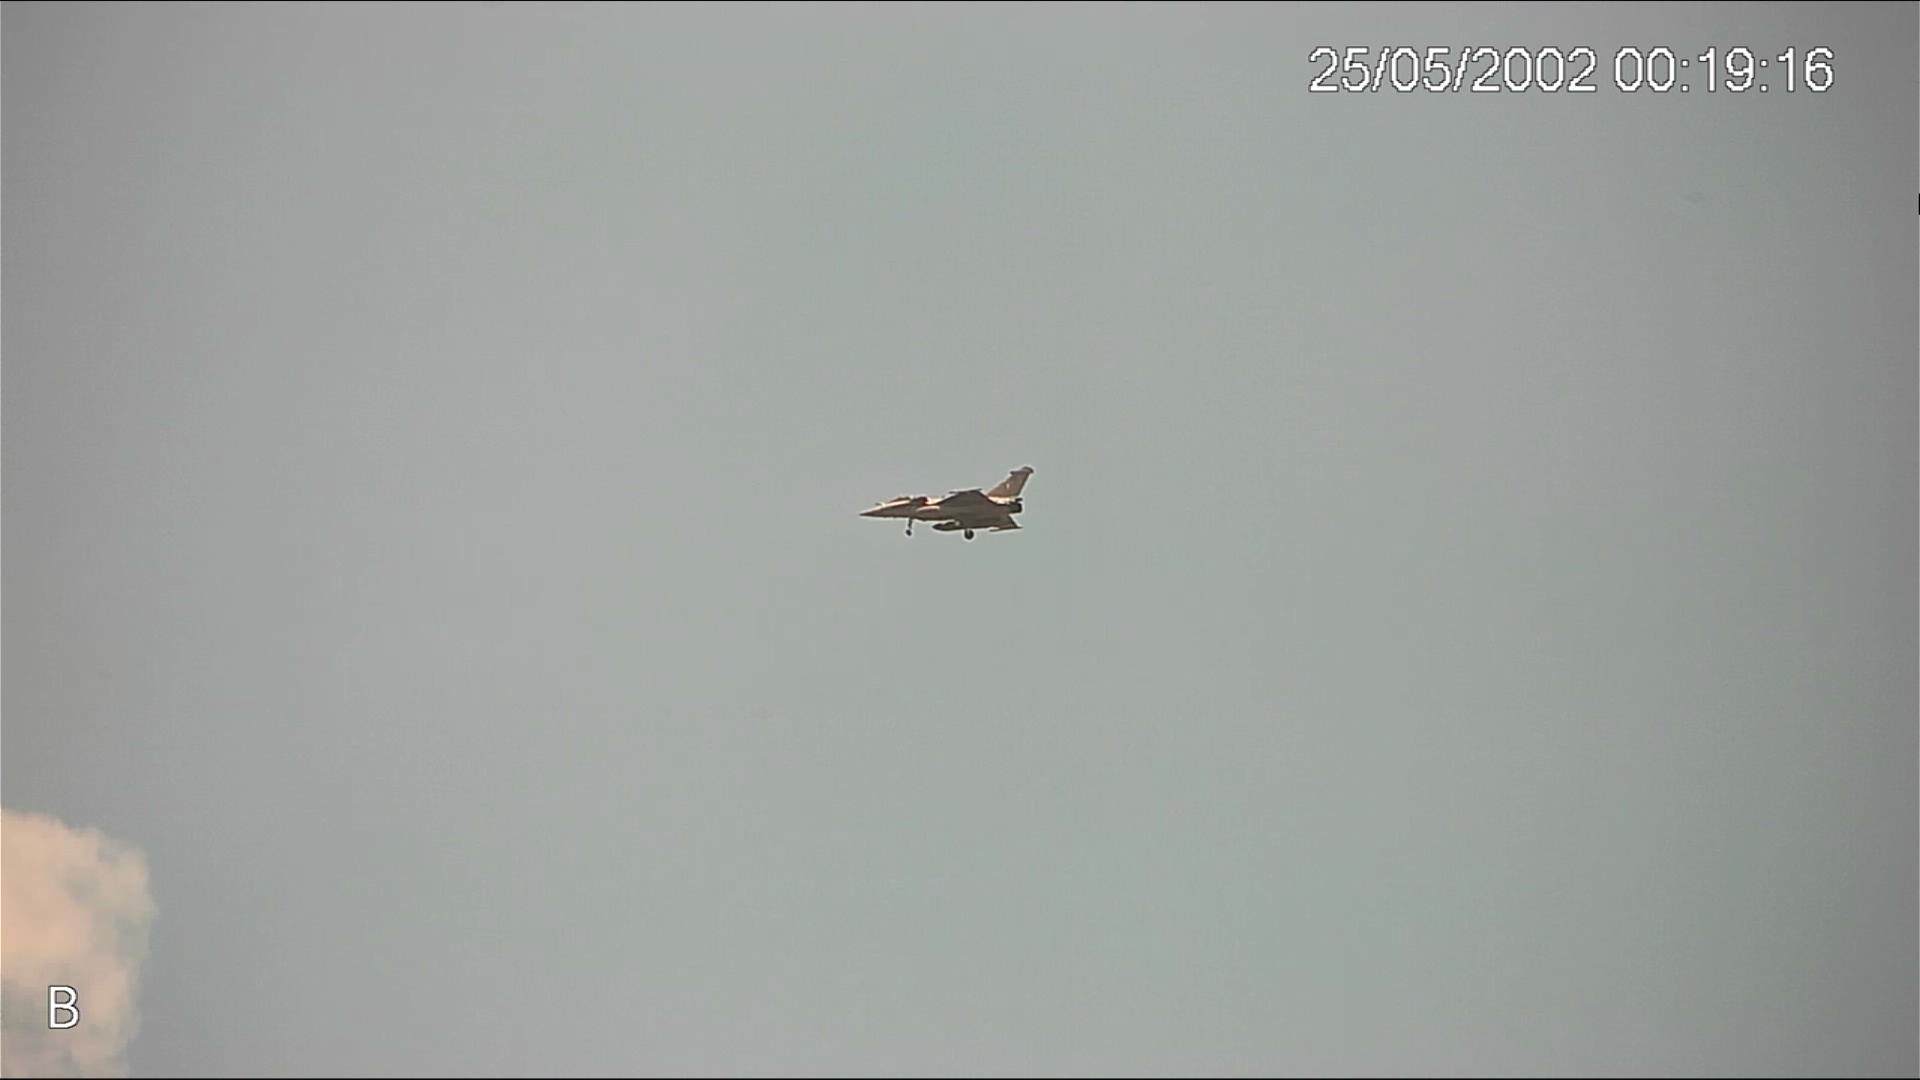SU_30: (839, 465, 1046, 539)
